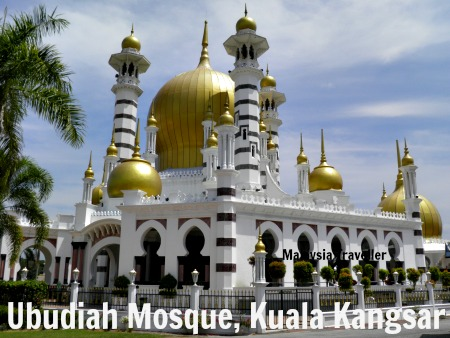Mosque: (88, 8, 428, 279)
